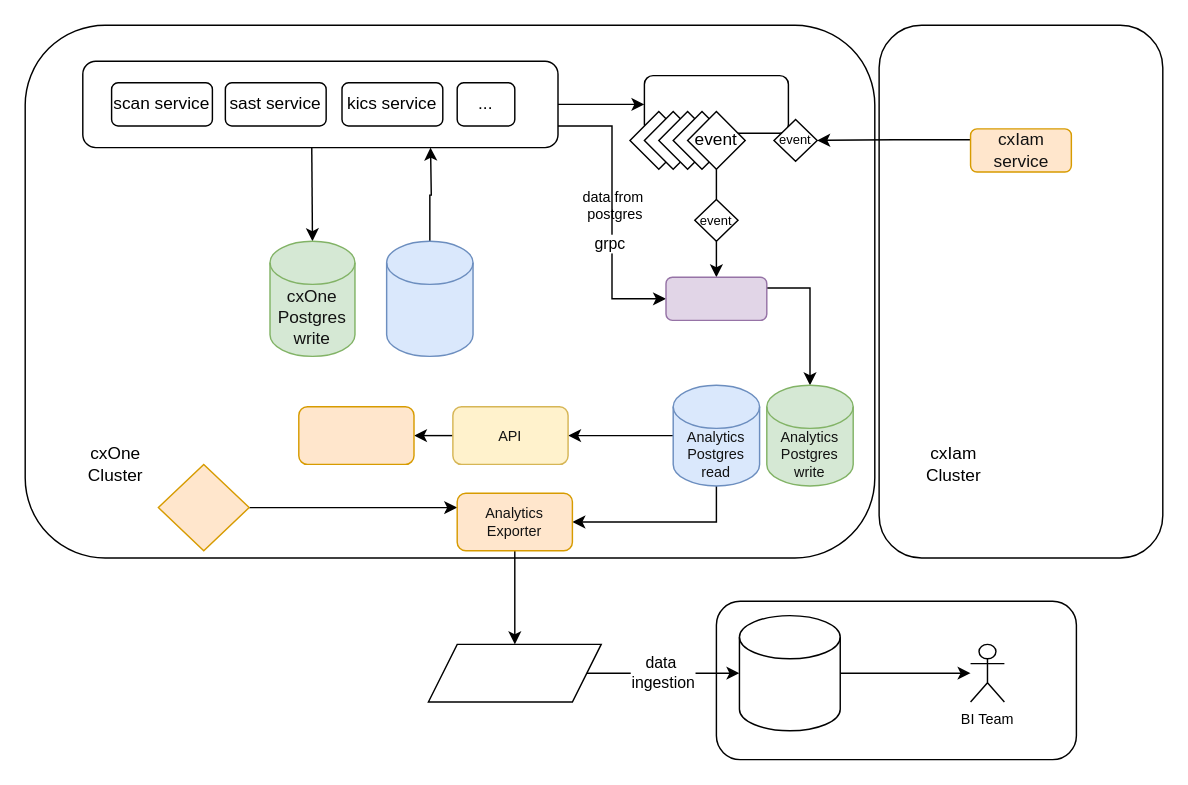
The diagram is 1188 pixels wide and 785 high, and some of its shapes have lost their labels. Each missing label, with the centre of its shape:
"Analytics s3 bucket" goes at (514,672).
"BI STORAGE" goes at (789,672).
"cxOne Postgres read" goes at (429,298).
"daily job" goes at (203,507).
"events service" goes at (716,298).
"MFE" goes at (355,434).
"rabbit" goes at (715,103).
